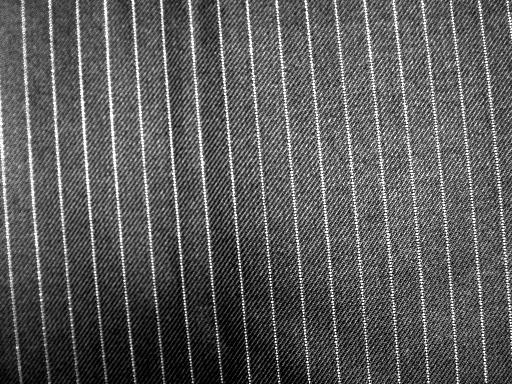fabric_perfect: (0, 2, 512, 384)
